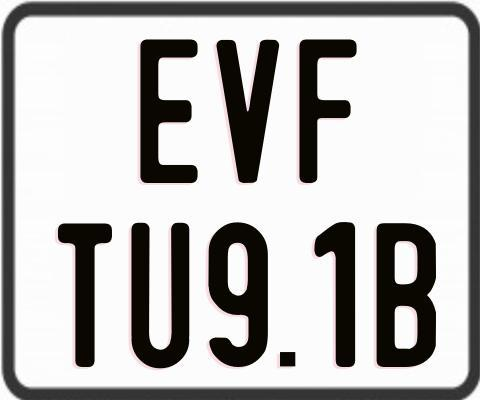1: (312, 219, 356, 365)
9: (207, 220, 273, 369)
B: (377, 220, 437, 366)
E: (140, 36, 203, 185)
F: (296, 37, 354, 183)
T: (56, 220, 115, 369)
U: (128, 221, 191, 370)
V: (214, 40, 279, 184)
